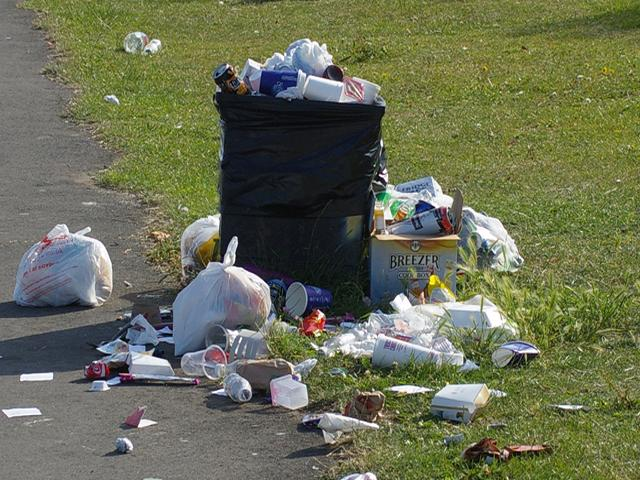garbage: (224, 61, 373, 321), (108, 297, 501, 372), (373, 182, 460, 372)
